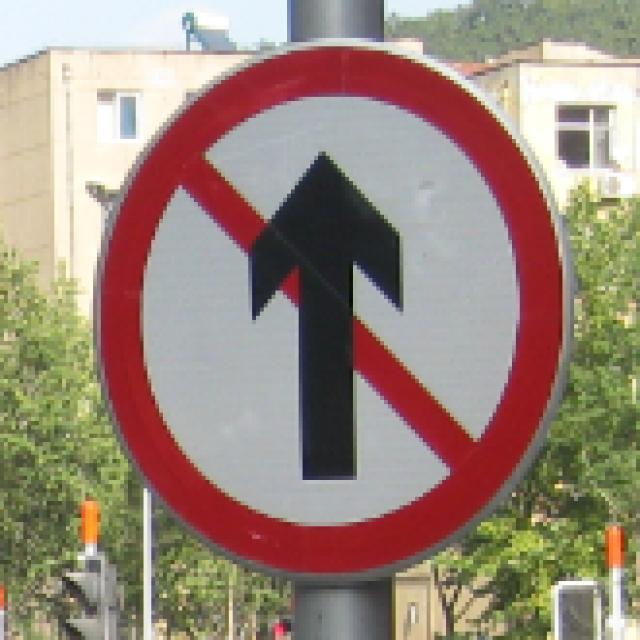Not that Direction: (96, 41, 574, 569)
